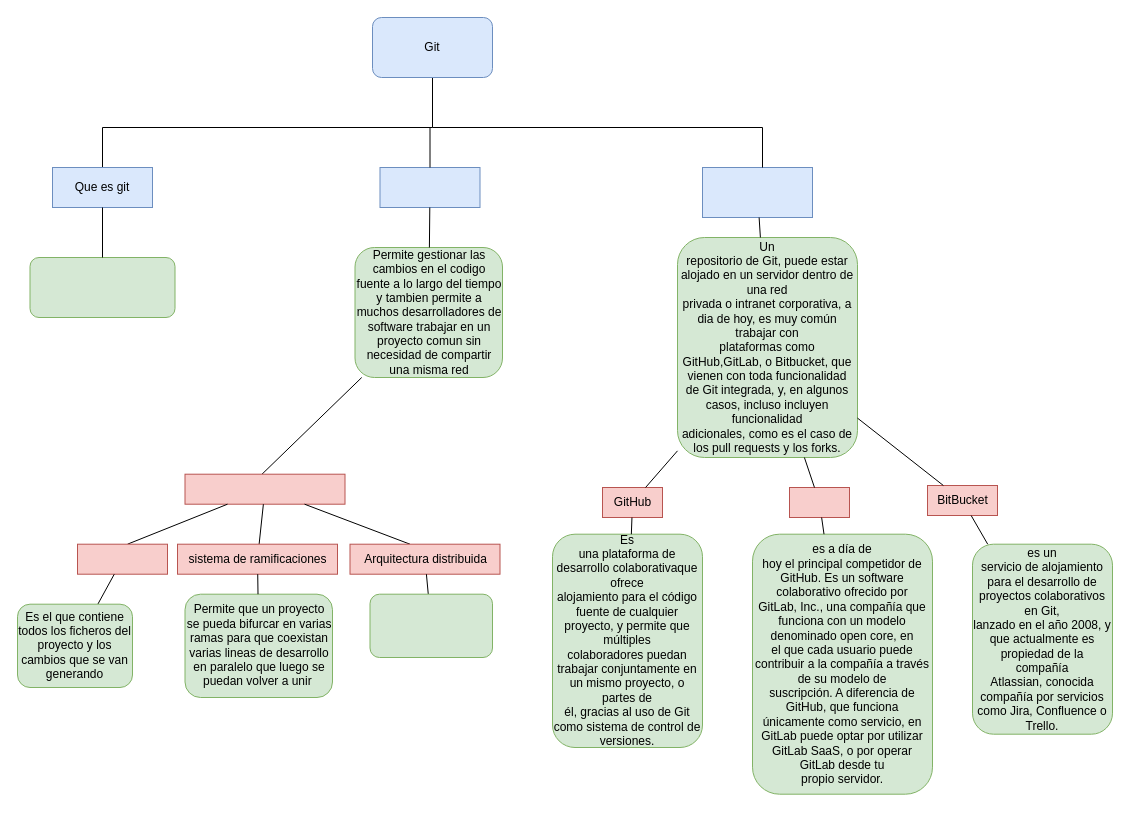
This 1130x816 diagram has some shape labels left out. Here are the shapes that lost their labels. From the top down, the box of each, then its label:
(379, 166, 480, 208): Como funciona git
(702, 166, 812, 218): Plataformas Cloud Colaborativas que Usan Git
(29, 256, 175, 318): Es un software de control de versiones distribuido
(184, 473, 345, 504): Principales caracteristicas
(788, 486, 850, 518): GitLab
(76, 543, 168, 574): Repositorios
(369, 593, 492, 658): Los ususarios pueden trabajar al mismo tiemppo en el proyecto
